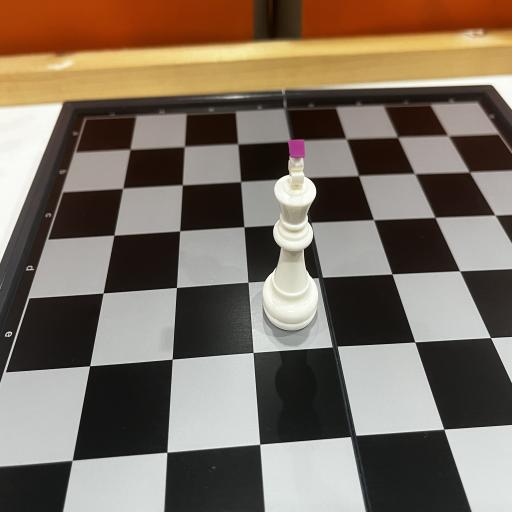White king: (262, 140, 318, 331)
